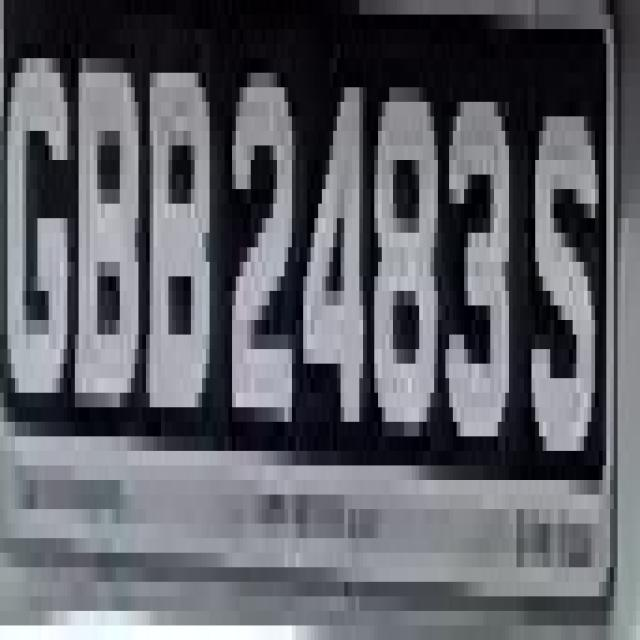2: (224, 59, 300, 436)
3: (438, 58, 516, 480)
4: (303, 44, 371, 451)
8: (367, 102, 445, 451)
B: (64, 14, 142, 451), (139, 44, 217, 451)
G: (4, 14, 75, 466)
S: (528, 87, 602, 480)
